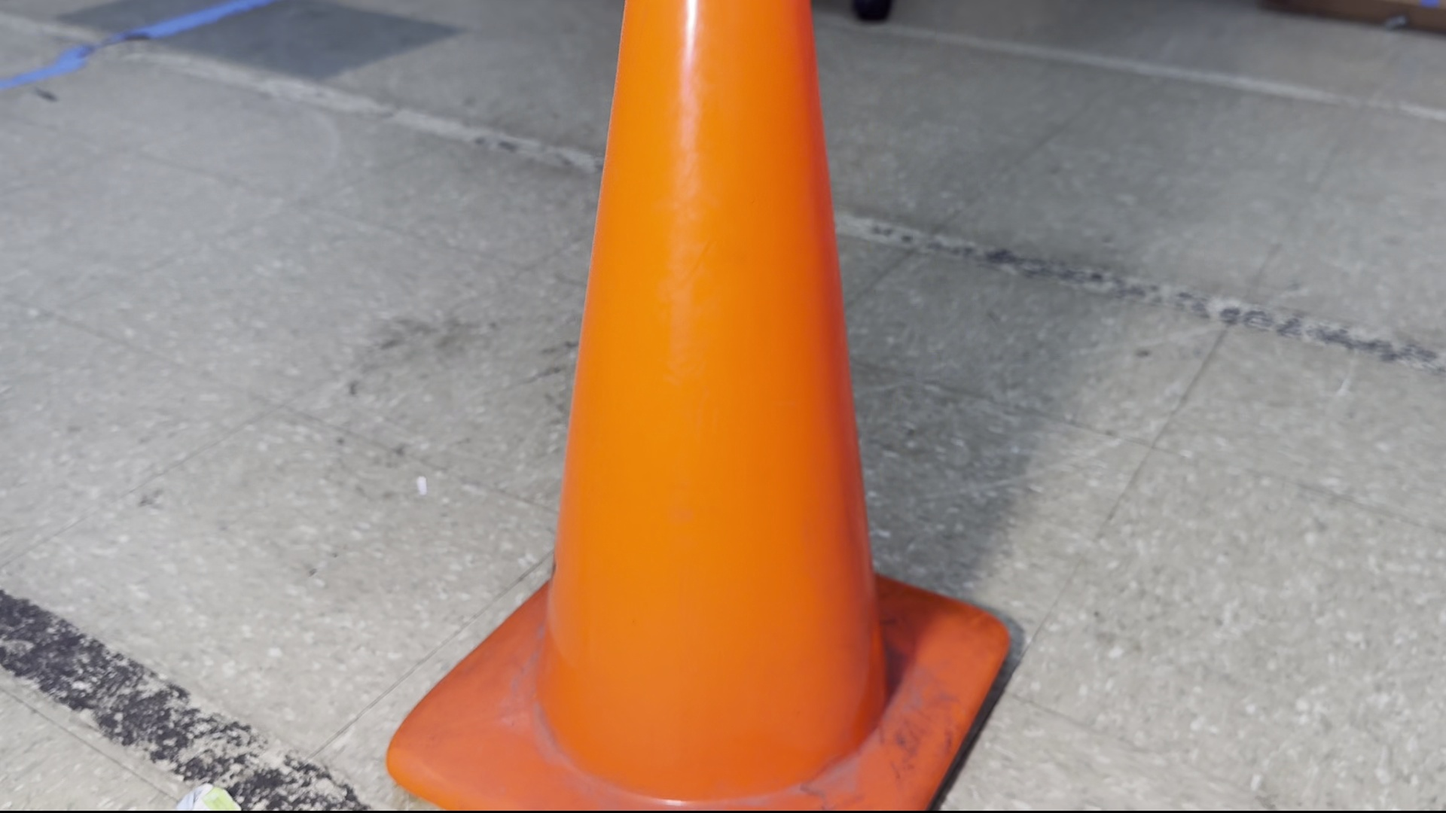traffic_cone: (384, 1, 1013, 811)
